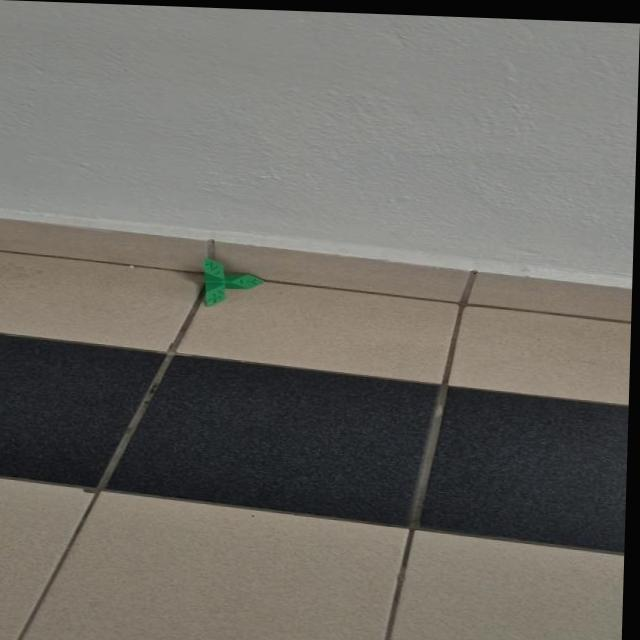eje: (200, 256, 267, 310)
